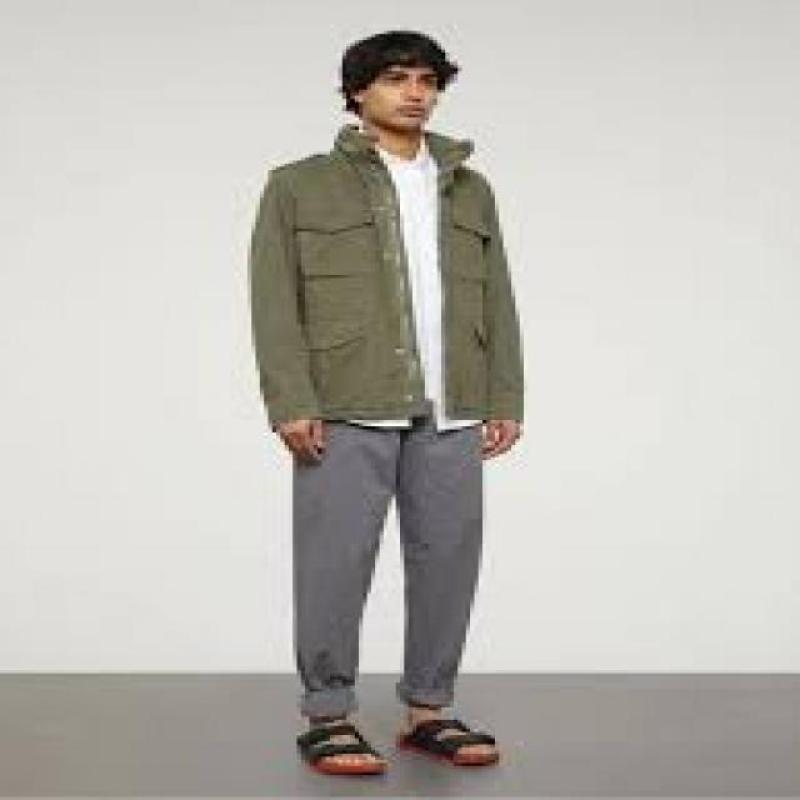jacket: (243, 121, 529, 431)
short sleeve shirt: (351, 139, 485, 436)
trousers: (287, 408, 484, 721)
